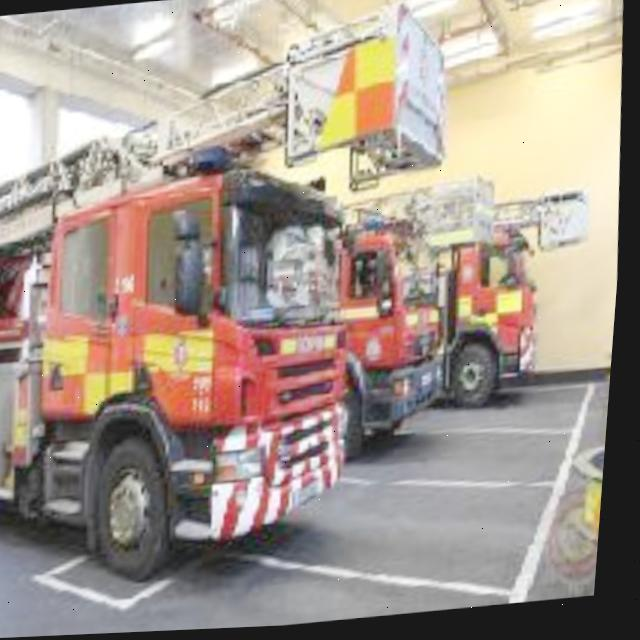emergency: (0, 48, 395, 596), (397, 173, 601, 404)
